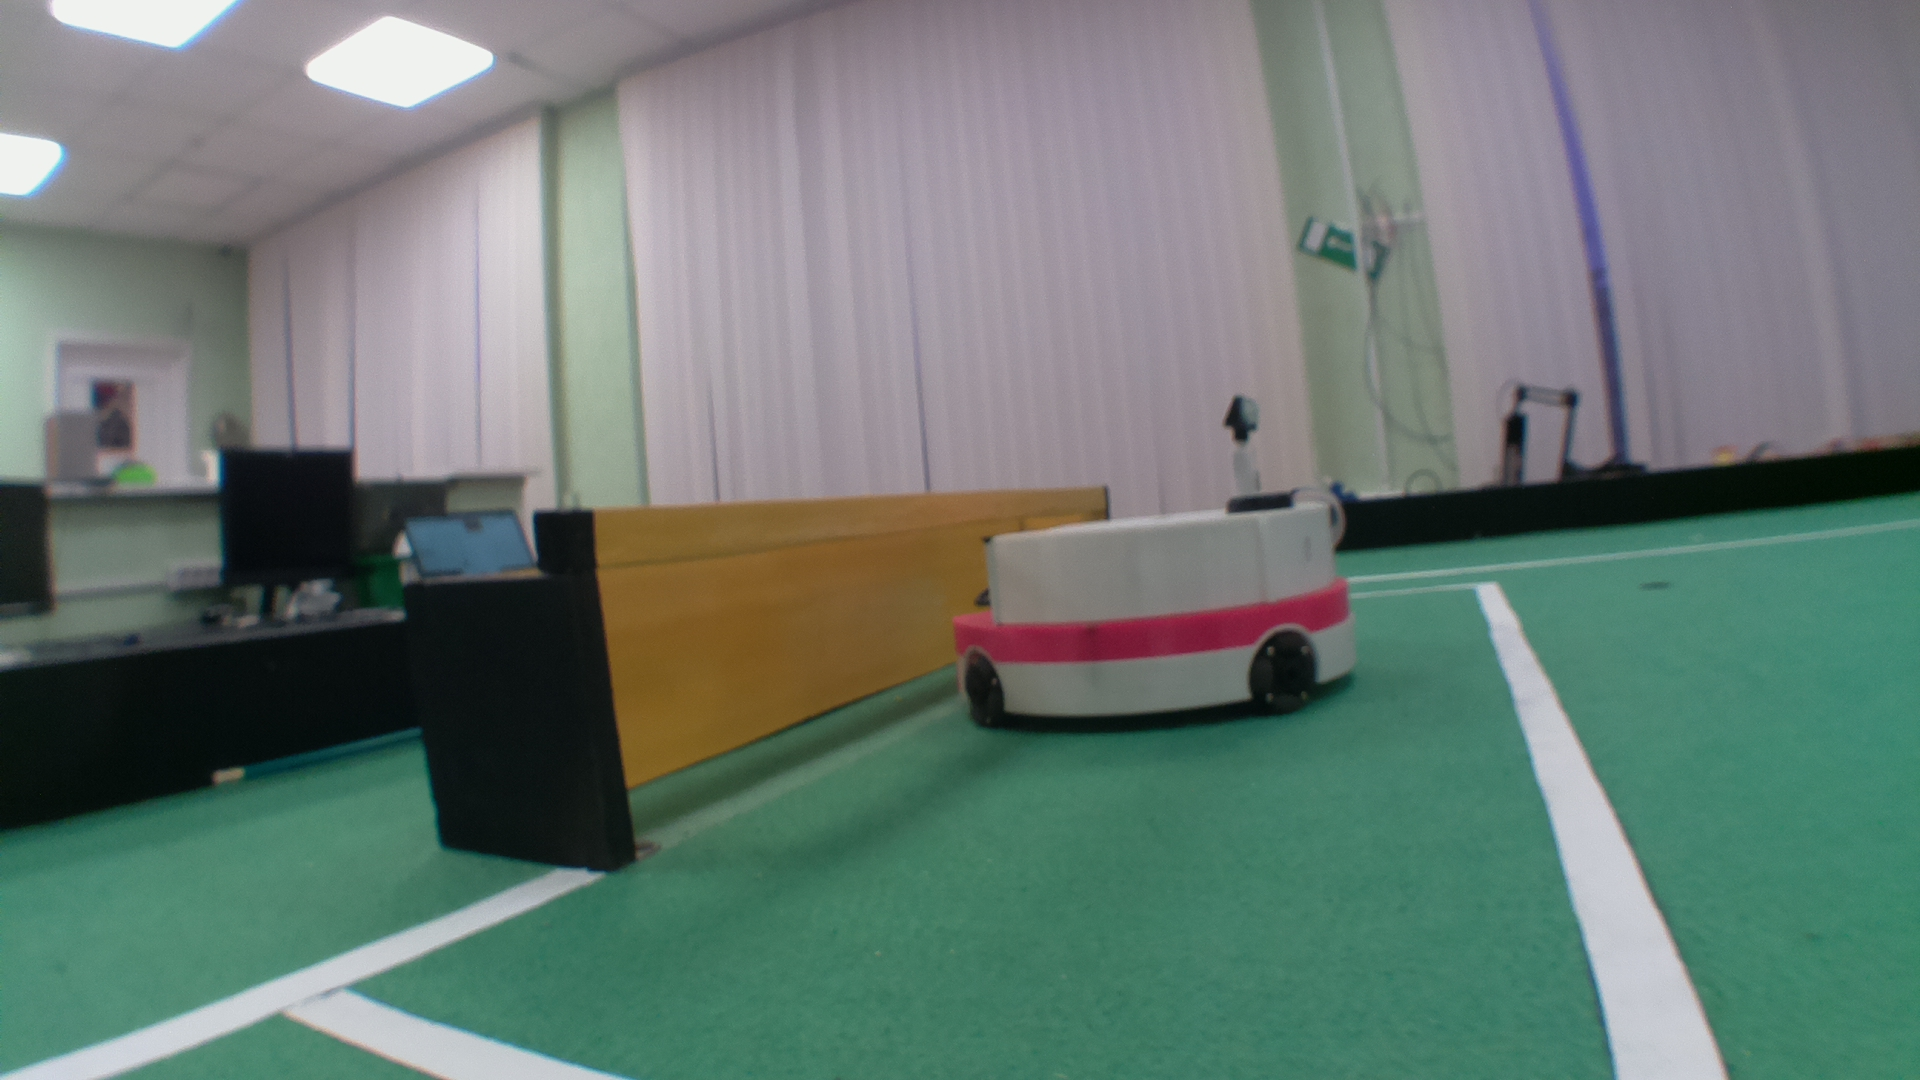YellowGoal: (589, 497, 1038, 781)
